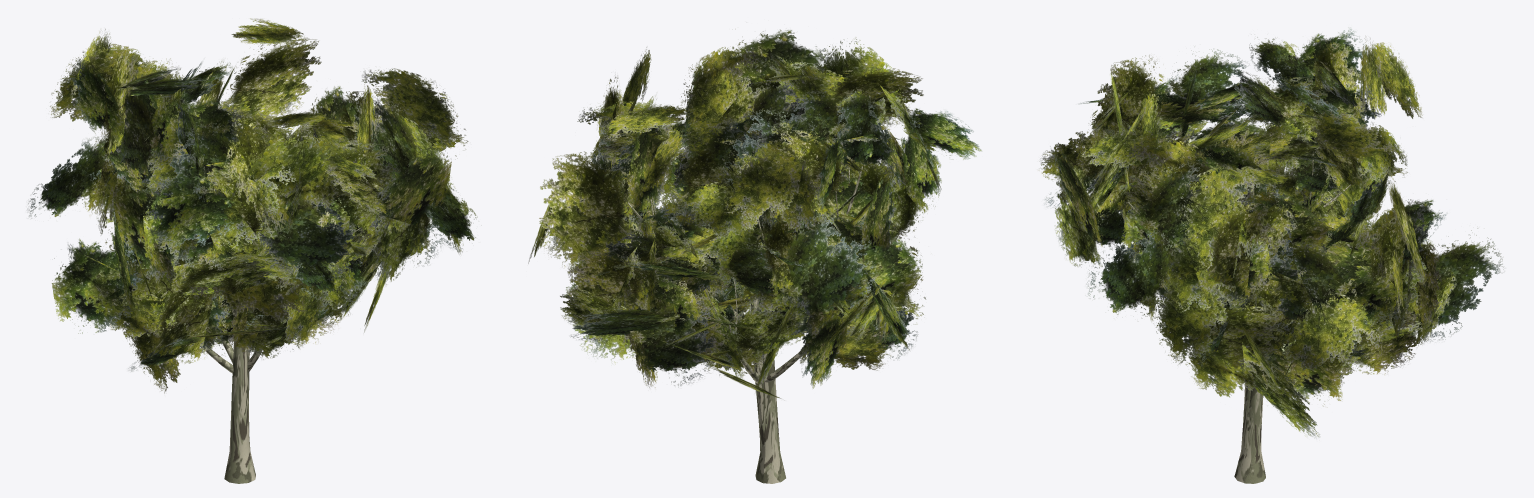
The model's file is trees.glb.
3 renders of one model, left to right at view 1: azimuth 30°, elevation 25°; view 2: azimuth 150°, elevation 25°; view 3: azimuth 270°, elevation 25°, orthographic. The views are drawn at different scales.
Visible parts, largest first — view 1: tree_a_leaf, tree_b_leaf, tree_a_wood, tree_b_wood; view 2: tree_a_leaf, tree_b_leaf, tree_a_wood, tree_b_wood; view 3: tree_a_leaf, tree_b_leaf, tree_a_wood, tree_b_wood.
Part boxes in pixels (x1=…): tree_a_leaf: x1=27, y1=18, x2=477, y2=344; tree_b_leaf: x1=51, y1=165, x2=390, y2=393; tree_a_wood: x1=146, y1=160, x2=361, y2=483; tree_b_wood: x1=203, y1=294, x2=280, y2=483; tree_a_leaf: x1=528, y1=29, x2=982, y2=387; tree_b_leaf: x1=564, y1=181, x2=926, y2=398; tree_a_wood: x1=627, y1=166, x2=862, y2=483; tree_b_wood: x1=702, y1=277, x2=803, y2=453; tree_a_leaf: x1=1039, y1=27, x2=1504, y2=387; tree_b_leaf: x1=1120, y1=158, x2=1416, y2=438; tree_a_wood: x1=1127, y1=142, x2=1364, y2=483; tree_b_wood: x1=1234, y1=371, x2=1263, y2=483.
Bounding box in the file's own units: 9.54 × 10.02 × 10.76.
Materials: 2 (2 with a texture image).
